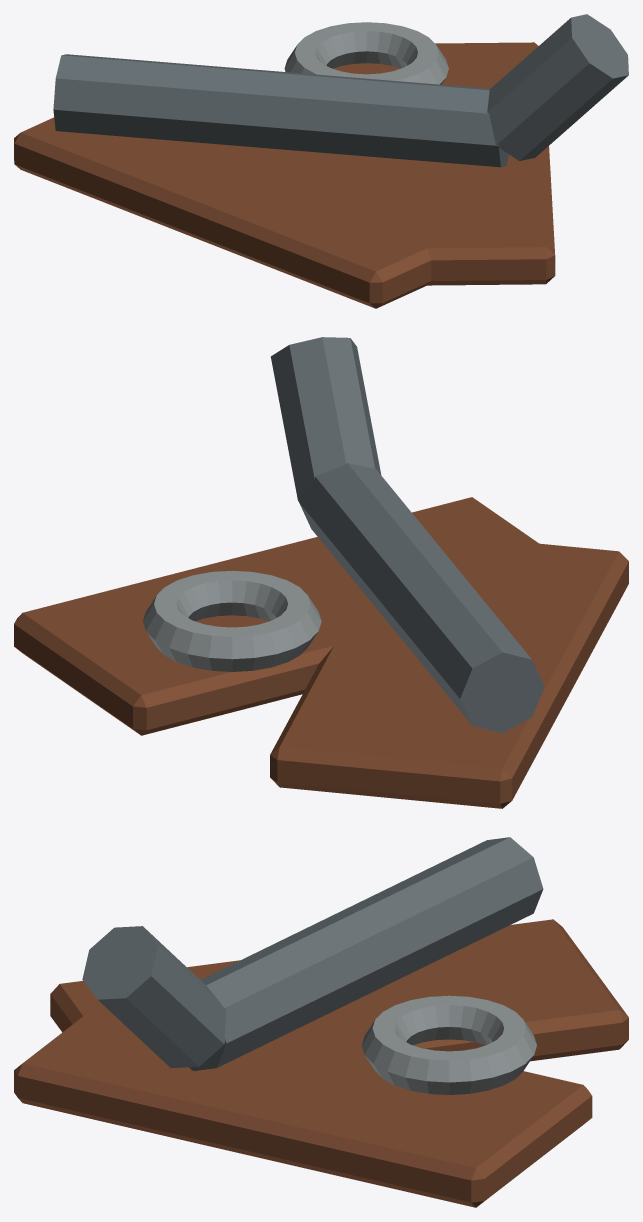
The model's file is loot_scrap_metal.glb.
3 views of the same model, one above another, from view 1: azimuth 30°, elevation 25°; view 2: azimuth 150°, elevation 25°; view 3: azimuth 270°, elevation 25° (orthographic). The views are drawn at different scales.
Visible parts, largest first — view 1: loot_scrap_metal; view 2: loot_scrap_metal; view 3: loot_scrap_metal.
Part boxes in pixels (x1,y1,x2,y2): loot_scrap_metal: (14, 14, 628, 308); loot_scrap_metal: (14, 337, 628, 808); loot_scrap_metal: (14, 837, 628, 1207).
Bounding box in the file's own units: 0.2488 × 0.0993 × 0.2523.
